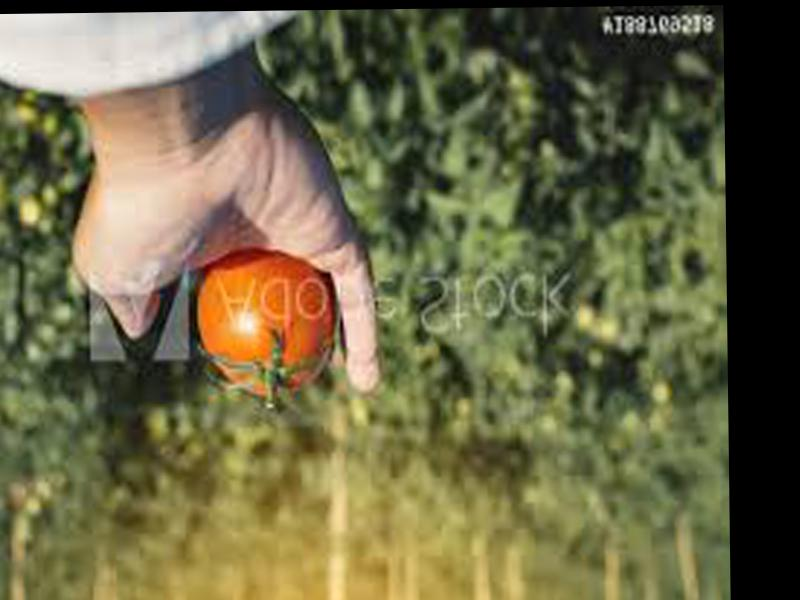Tomato: (200, 255, 338, 394)
